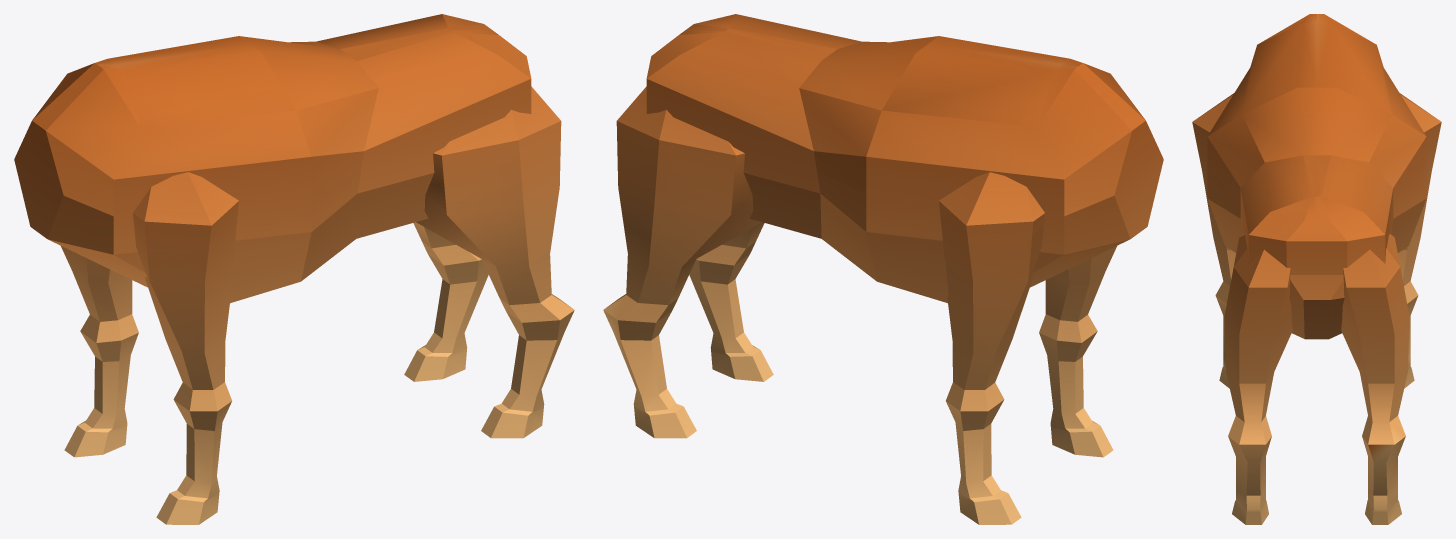
Rendered from SM_Lion_Body.fbx.
The picture shows the model from 3 angles, left to right: view 1: azimuth 30°, elevation 25°; view 2: azimuth 150°, elevation 25°; view 3: azimuth 270°, elevation 25°; orthographic projection. The views are drawn at different scales.
Parts seen in each view (by area): view 1: SM_Lion_Body; view 2: SM_Lion_Body; view 3: SM_Lion_Body.
Part boxes in pixels (box(x1,y1,x2,y2)): SM_Lion_Body: box(14, 14, 574, 524); SM_Lion_Body: box(603, 14, 1163, 524); SM_Lion_Body: box(1192, 14, 1441, 524).
Size of the model in its own units: 81.12 by 67.45 by 43.55.
